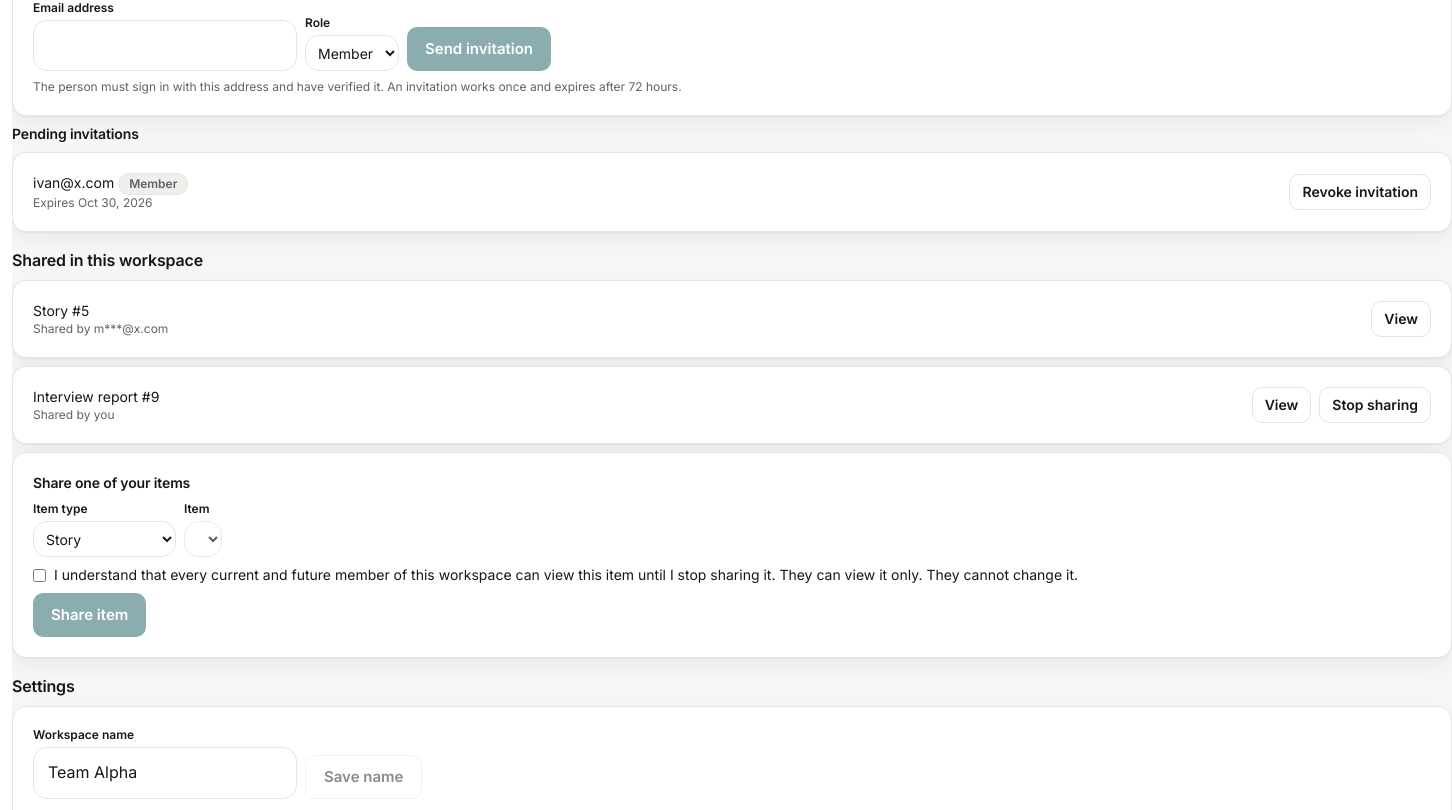
it: Sharing into a workspace › lists what is shared in the workspace, lets only the sharer stop it, and a stopped item shows as unavailable
(page scrolled)
Check: the text "Shared by you" is shown, box [33,407,115,422]
Click the button "Stop sharing" at (1375, 405), box [1319,387,1431,423]
(page scrolled)
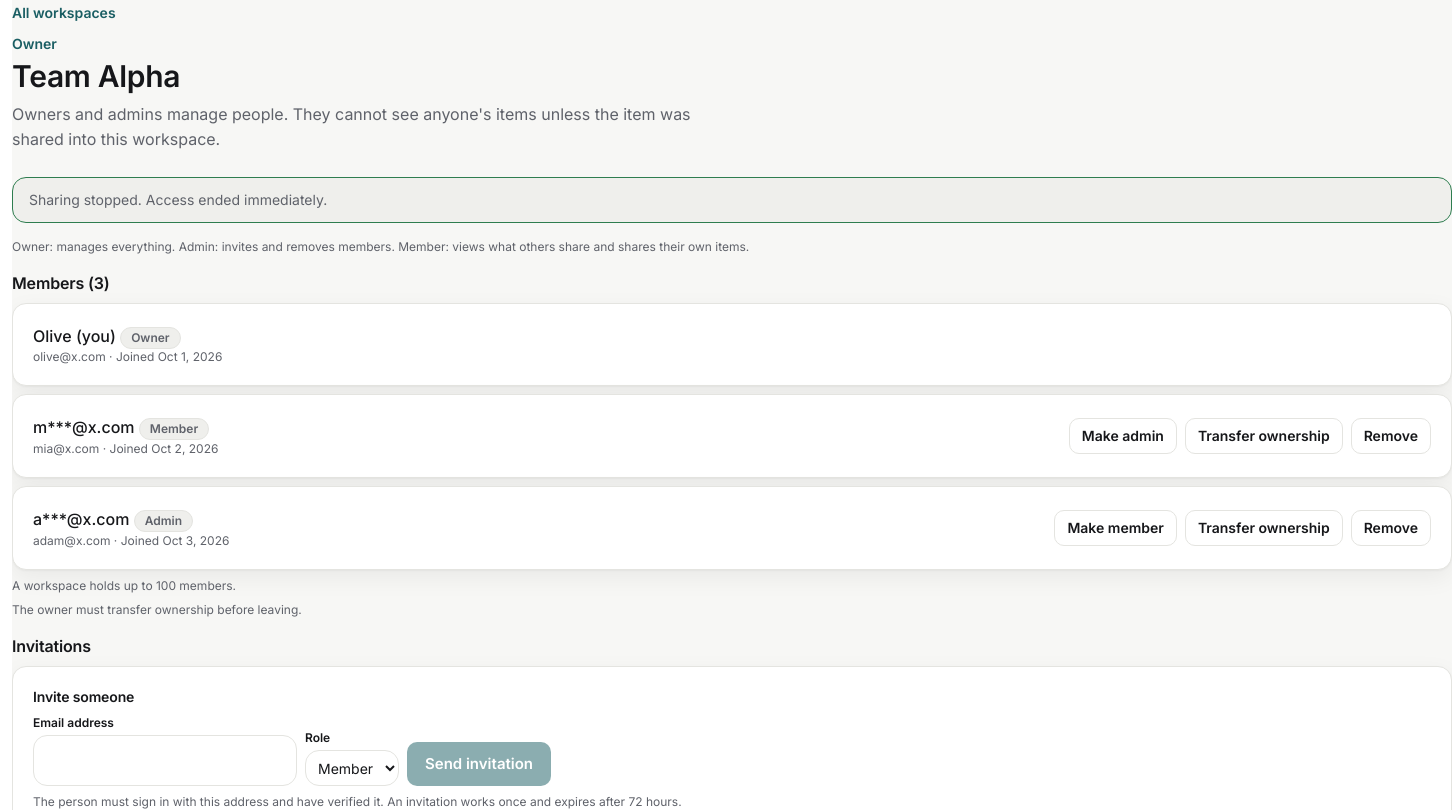
Check: the text "Sharing stopped. Access ended immediately." is shown, box [29,191,327,208]
